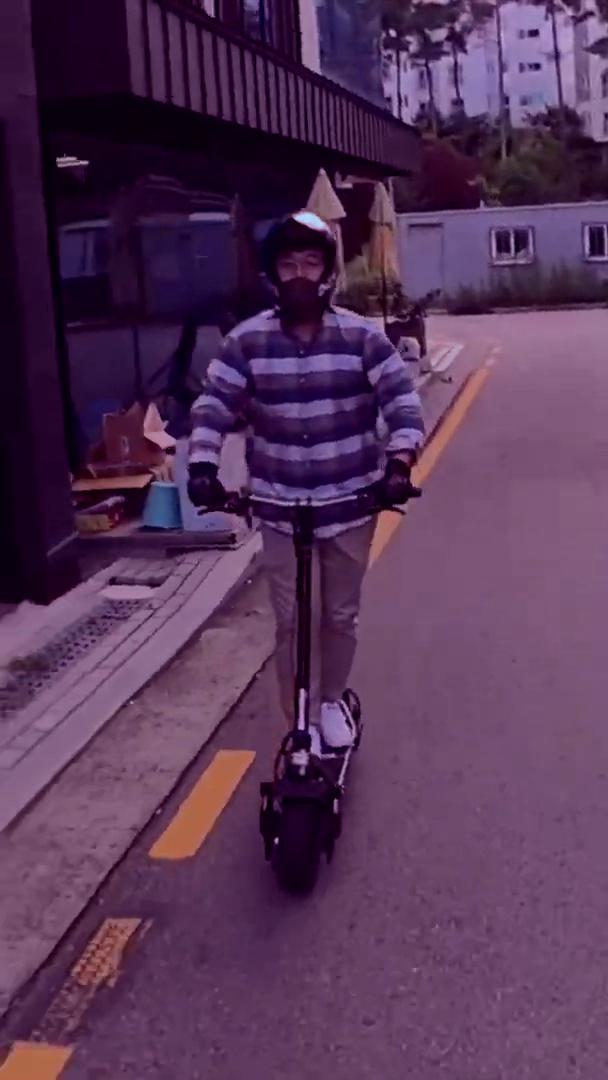helmet: (182, 202, 430, 895)
